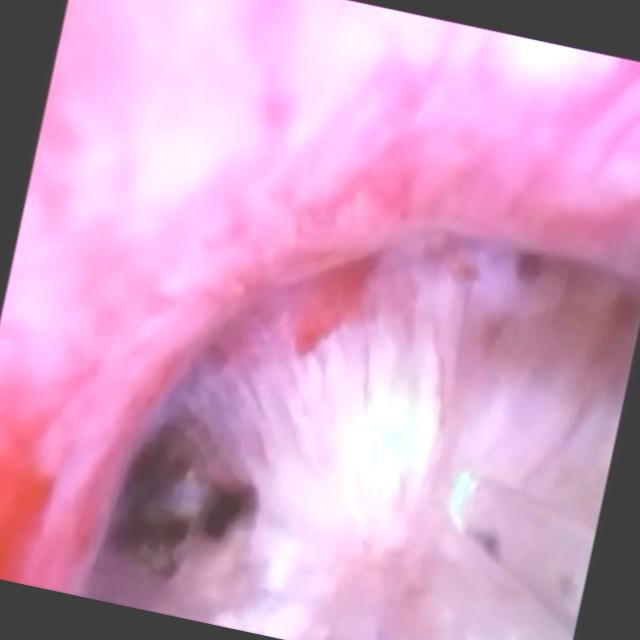laser-fibre: (464, 479, 593, 626)
laser_dot: (377, 418, 416, 481)
stone-new: (110, 427, 254, 577)
